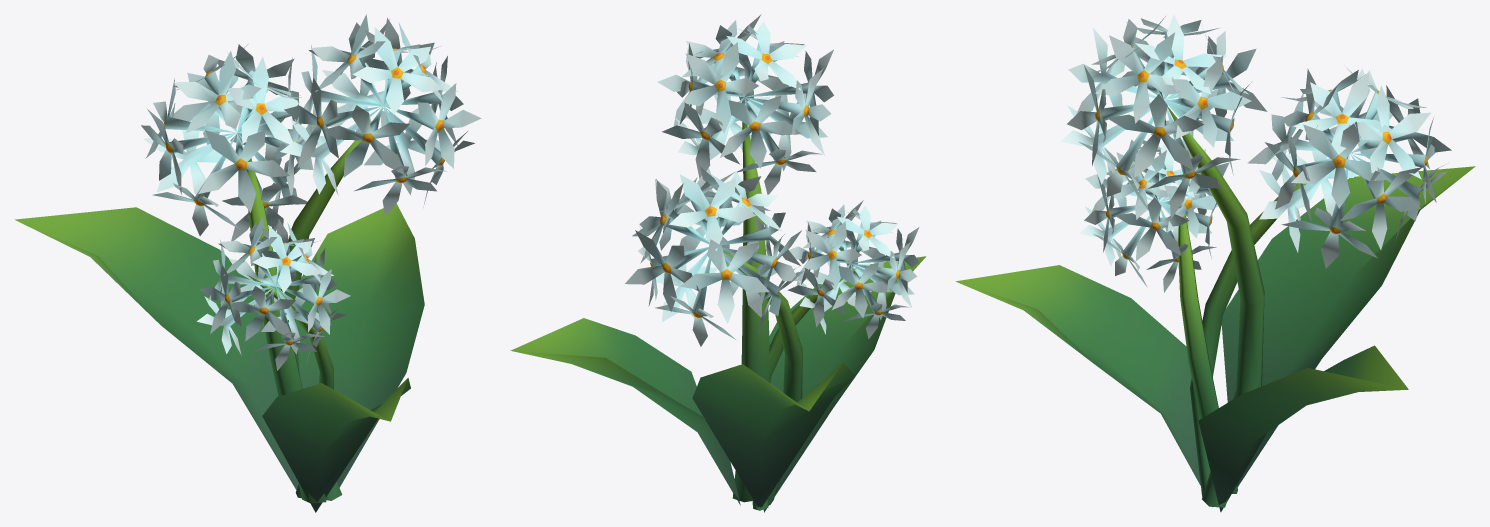
File: flower23.glb
3 renders of one model, left to right at view 1: azimuth 30°, elevation 25°; view 2: azimuth 150°, elevation 25°; view 3: azimuth 270°, elevation 25°, orthographic. The views are drawn at different scales.
Parts seen in each view (by area): view 1: Flower.030; view 2: Flower.030; view 3: Flower.030.
Boxes of the visible parts, x1,y1,x2,y2 form: Flower.030: (15, 14, 481, 512); Flower.030: (510, 14, 926, 512); Flower.030: (955, 14, 1475, 512).
Bounding box in the file's own units: 1.92 × 2.58 × 2.38.
1 material, 1 textured.
